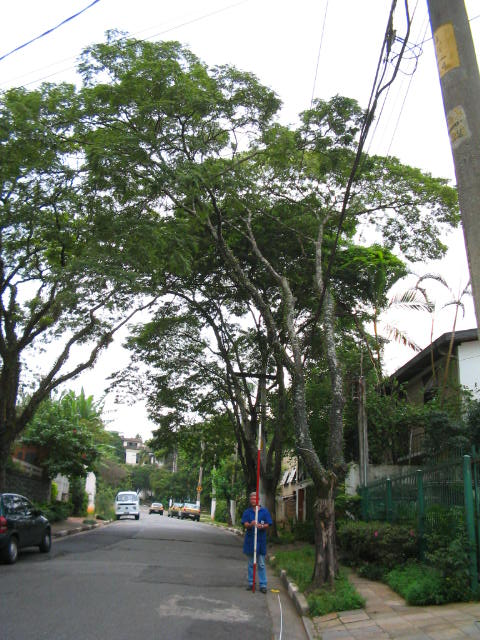crown: (3, 32, 459, 304), (1, 179, 199, 305)
stem: (300, 483, 354, 591)
stick: (249, 422, 263, 593)
tree: (1, 30, 459, 592), (1, 179, 199, 552)
